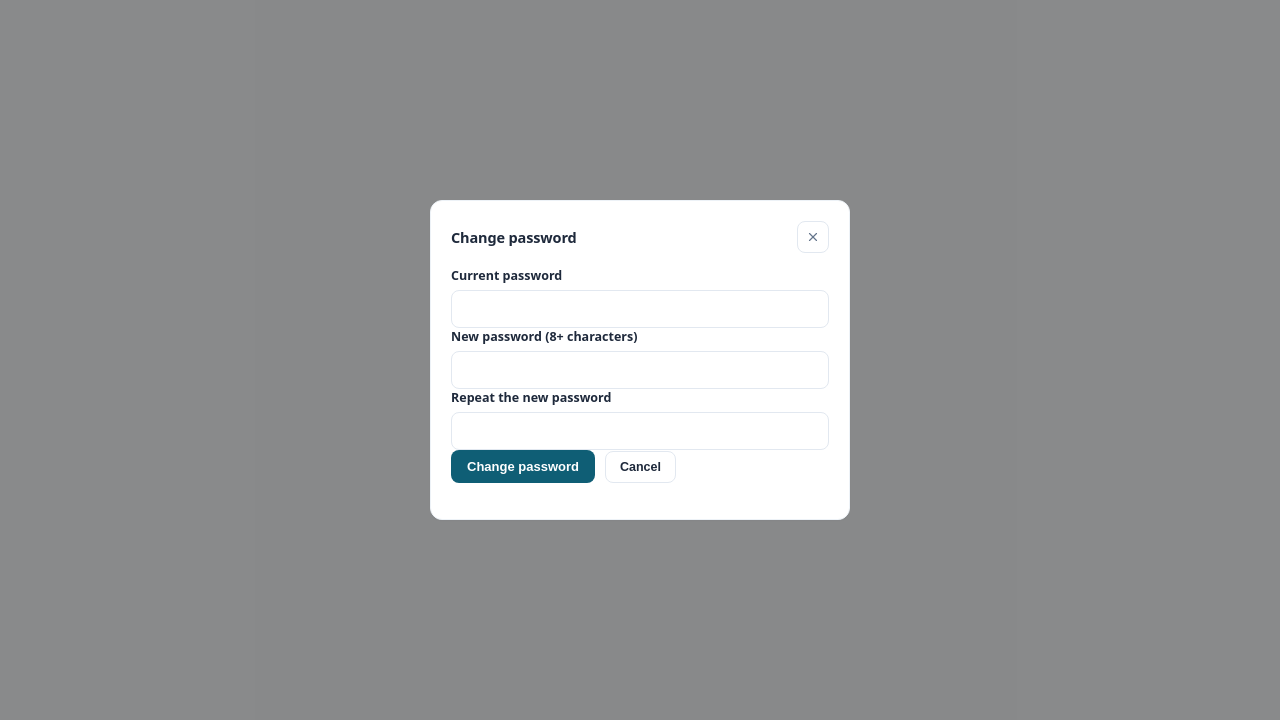
Change password › stores the fresh token the server returns so this session stays signed in
The width and height of the screenshot is (1280, 720).
Type "old-pass-123" into the password field labelled "Current password" at (640, 309), box x1=451 y1=290 x2=829 y2=328
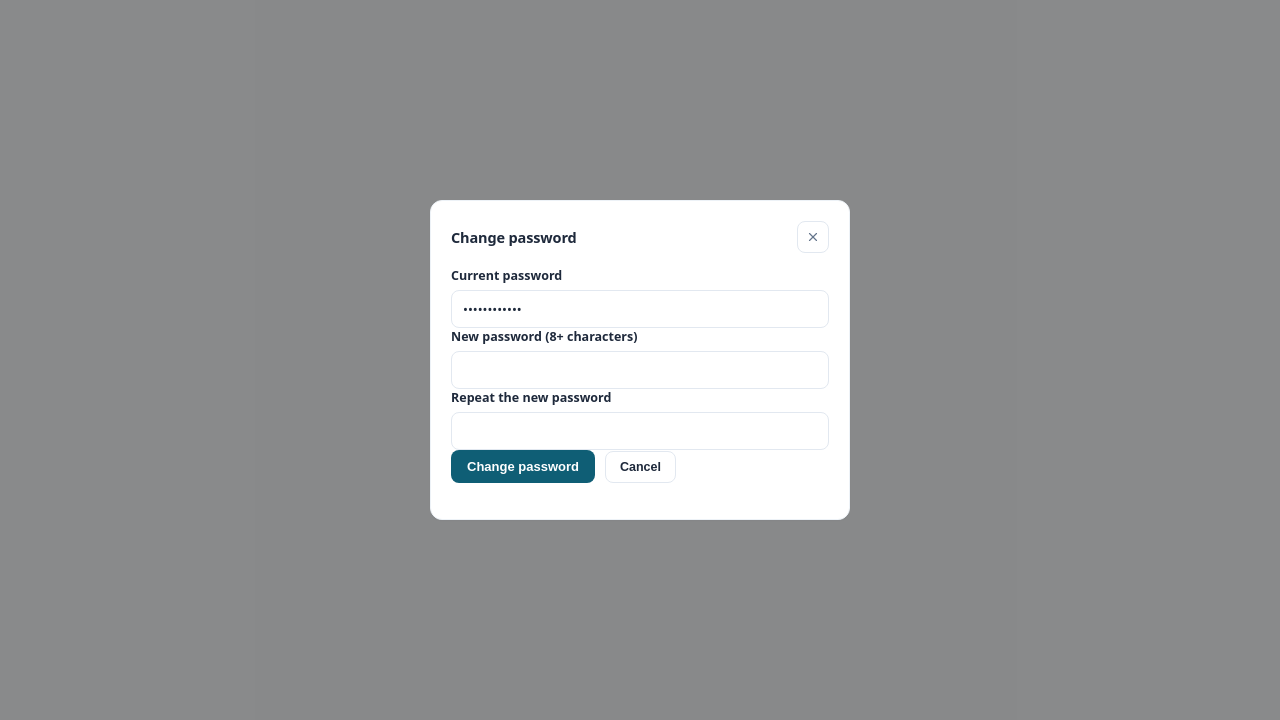
Type "new-pass-456" into the password field labelled "New password (8+ characters)" at (640, 370), box x1=451 y1=351 x2=829 y2=389
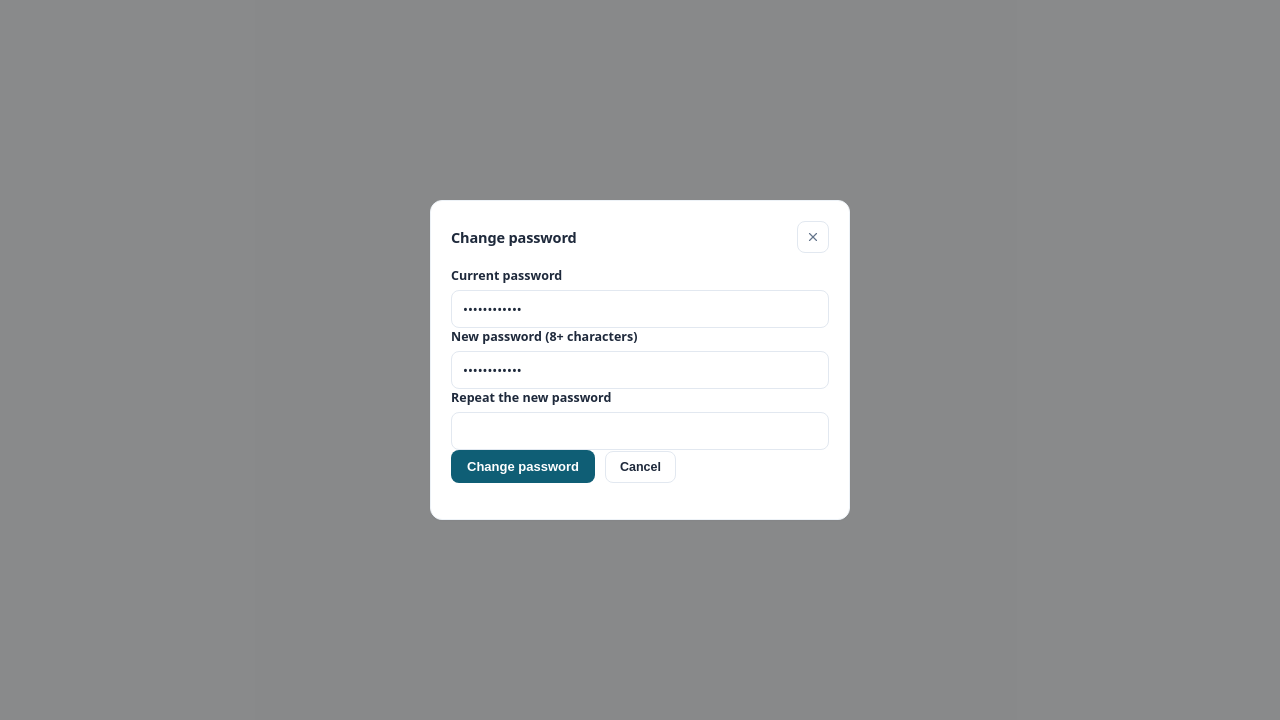
Type "new-pass-456" into the password field labelled "Repeat the new password" at (640, 431), box x1=451 y1=412 x2=829 y2=450
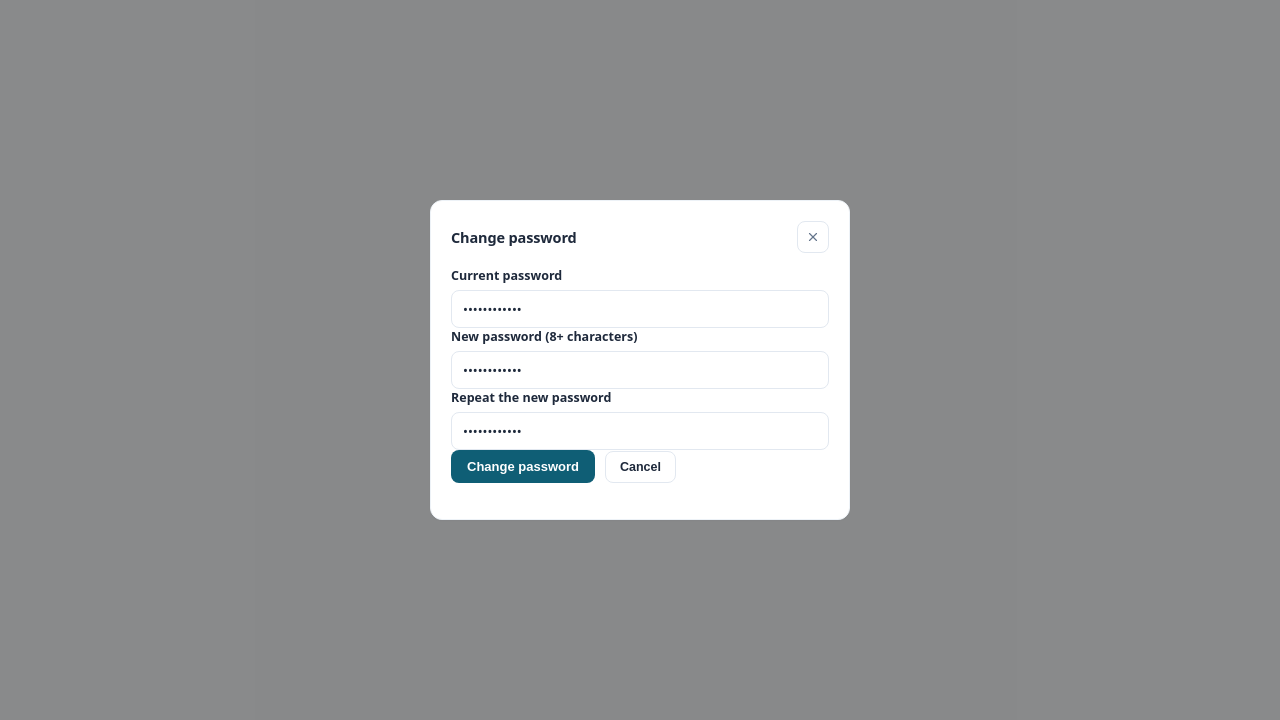
Submit the form labelled "Current password", box x1=451 y1=267 x2=829 y2=483
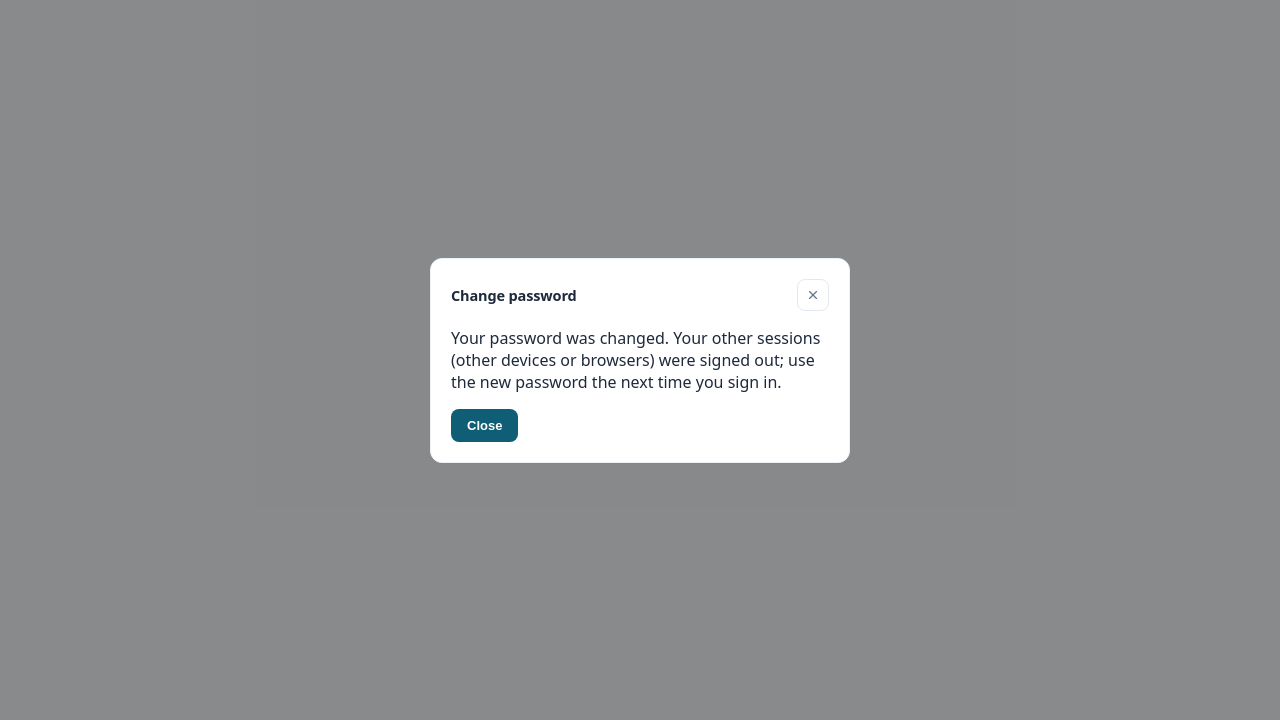
Result: the text "Your password was changed" is shown at x1=451 y1=326 x2=820 y2=392
